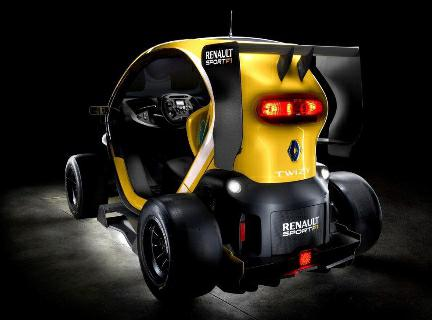雷诺-Twizy: (54, 32, 393, 310)
